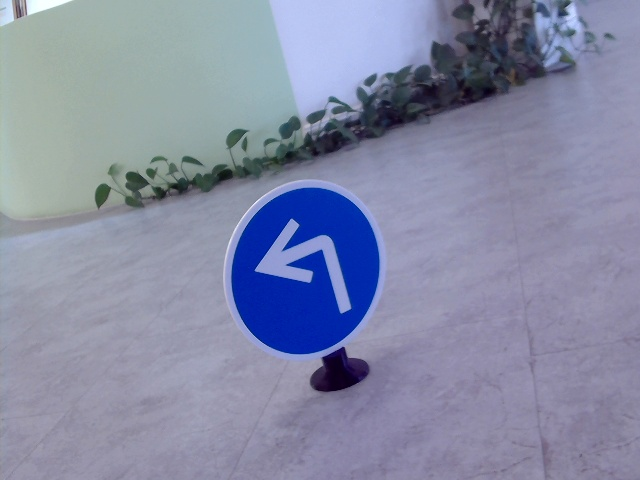turn_left: (257, 218, 354, 321)
